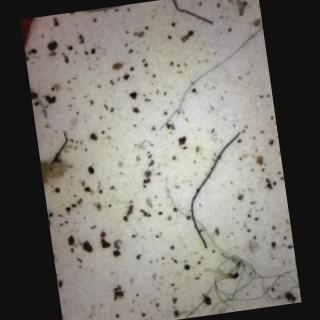Microplastic: (127, 1, 276, 142), (174, 120, 264, 258), (170, 240, 301, 319)
